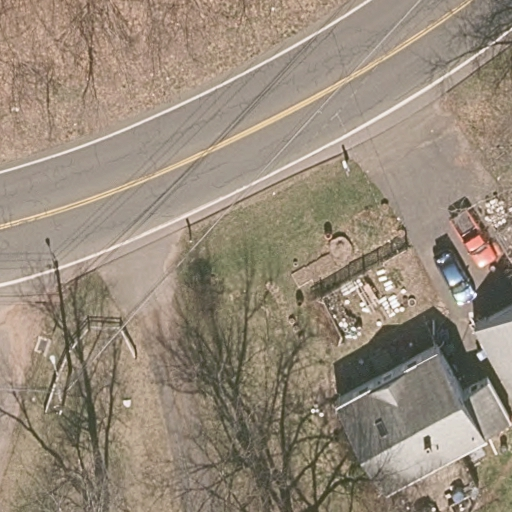DT: (42, 341, 101, 416)
